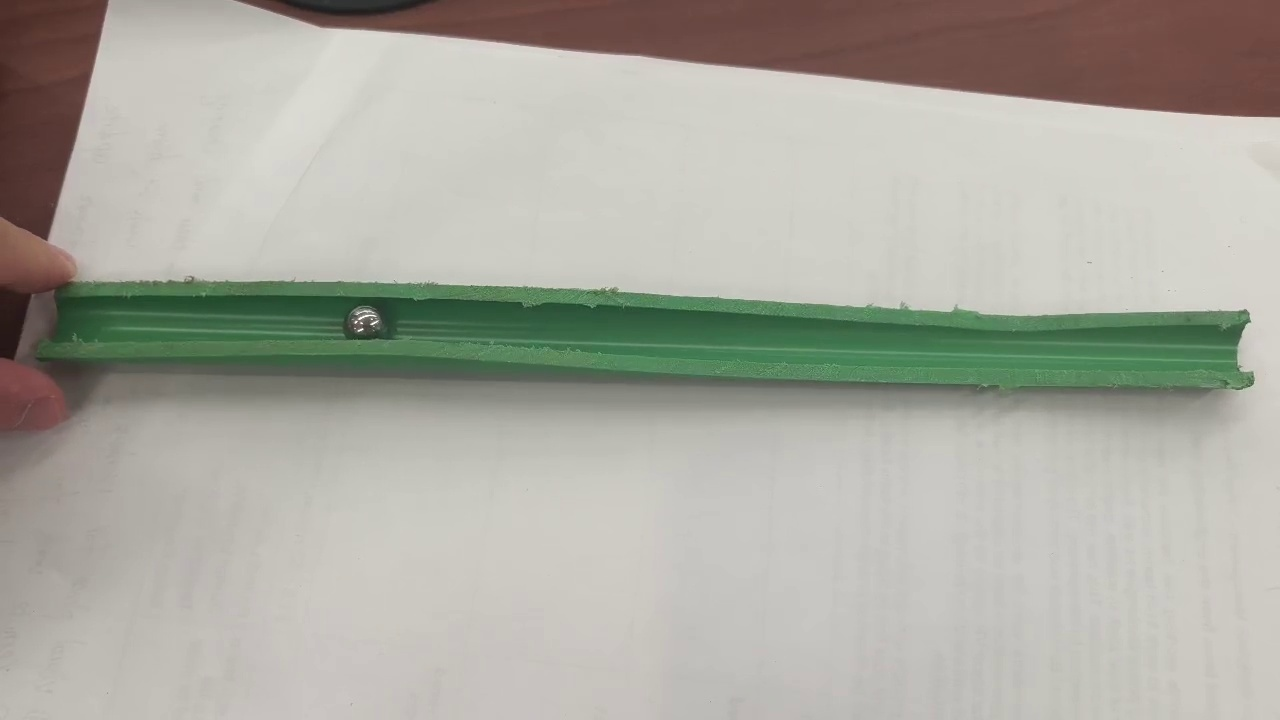ball: (346, 307, 383, 335)
